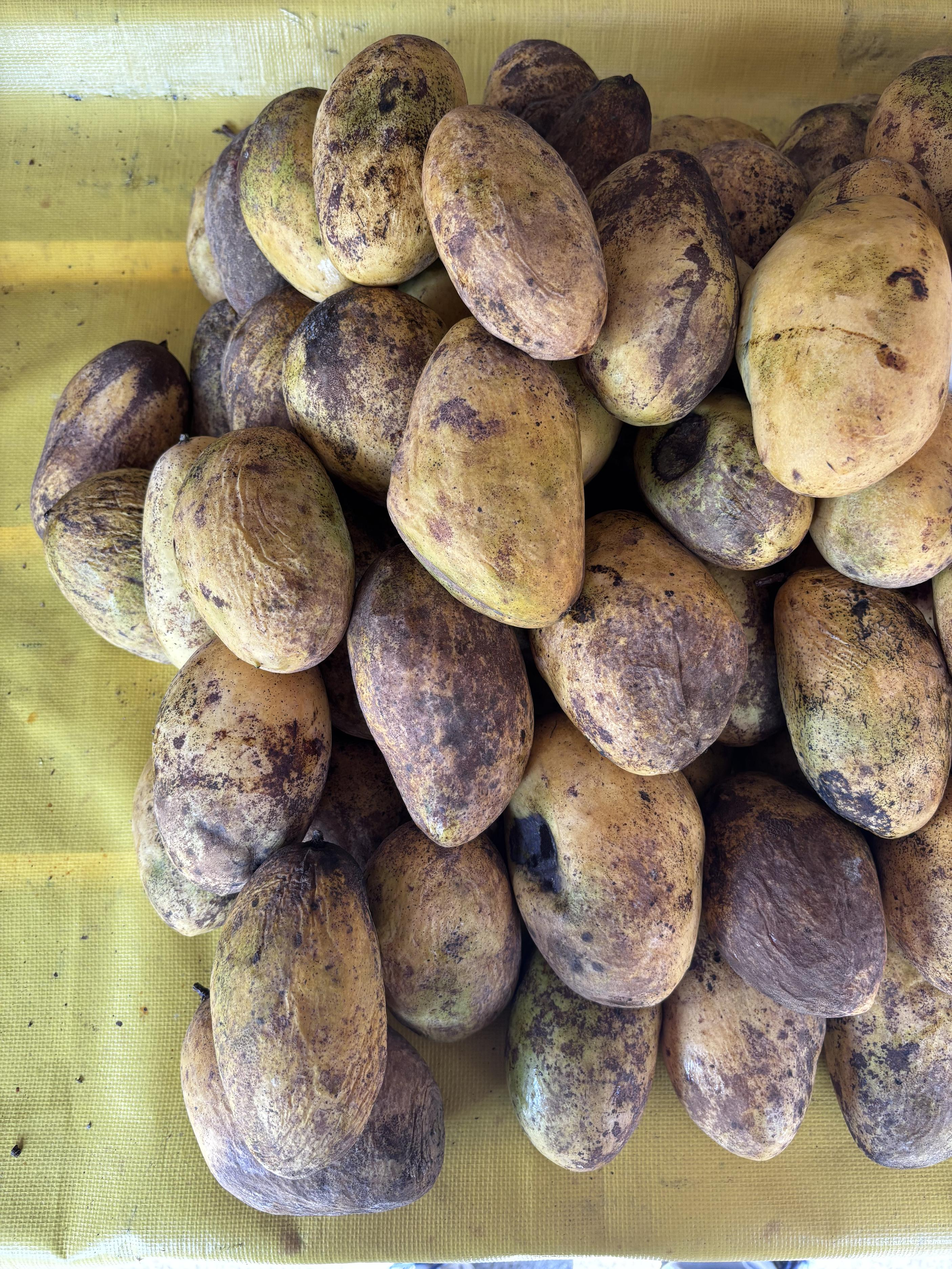mango: (737, 195, 952, 498), (210, 829, 387, 1178), (388, 318, 584, 627), (775, 567, 952, 837), (422, 105, 607, 360), (173, 427, 354, 673), (704, 773, 886, 1016)
occluded: (181, 984, 444, 1216), (505, 713, 704, 1006), (531, 510, 747, 774), (347, 545, 533, 846), (154, 639, 331, 894), (579, 151, 739, 425), (660, 917, 825, 1160), (313, 35, 467, 284), (283, 286, 444, 501), (365, 823, 521, 1040), (506, 950, 659, 1171), (634, 391, 813, 569), (31, 341, 190, 537), (824, 939, 952, 1168), (811, 404, 952, 587), (238, 87, 352, 301), (44, 468, 167, 662), (871, 777, 952, 995), (866, 56, 952, 240), (303, 730, 409, 868), (205, 129, 283, 314), (699, 138, 809, 266), (709, 566, 786, 746), (222, 286, 313, 430), (547, 74, 651, 195), (484, 39, 596, 136), (793, 157, 940, 226), (551, 361, 621, 483), (190, 299, 239, 437), (186, 168, 225, 302)
